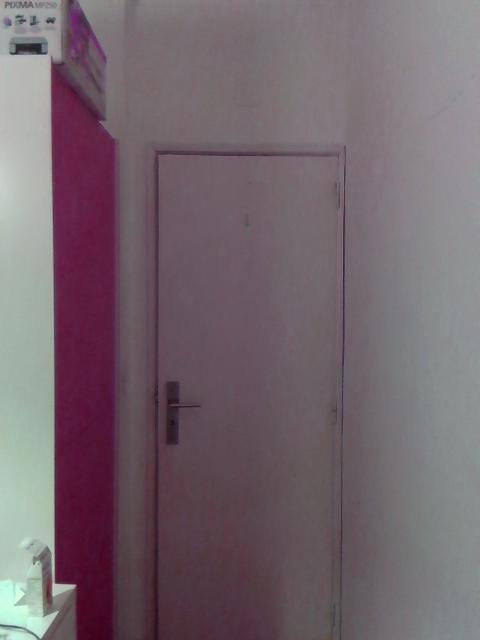closed_door: (145, 145, 343, 638)
